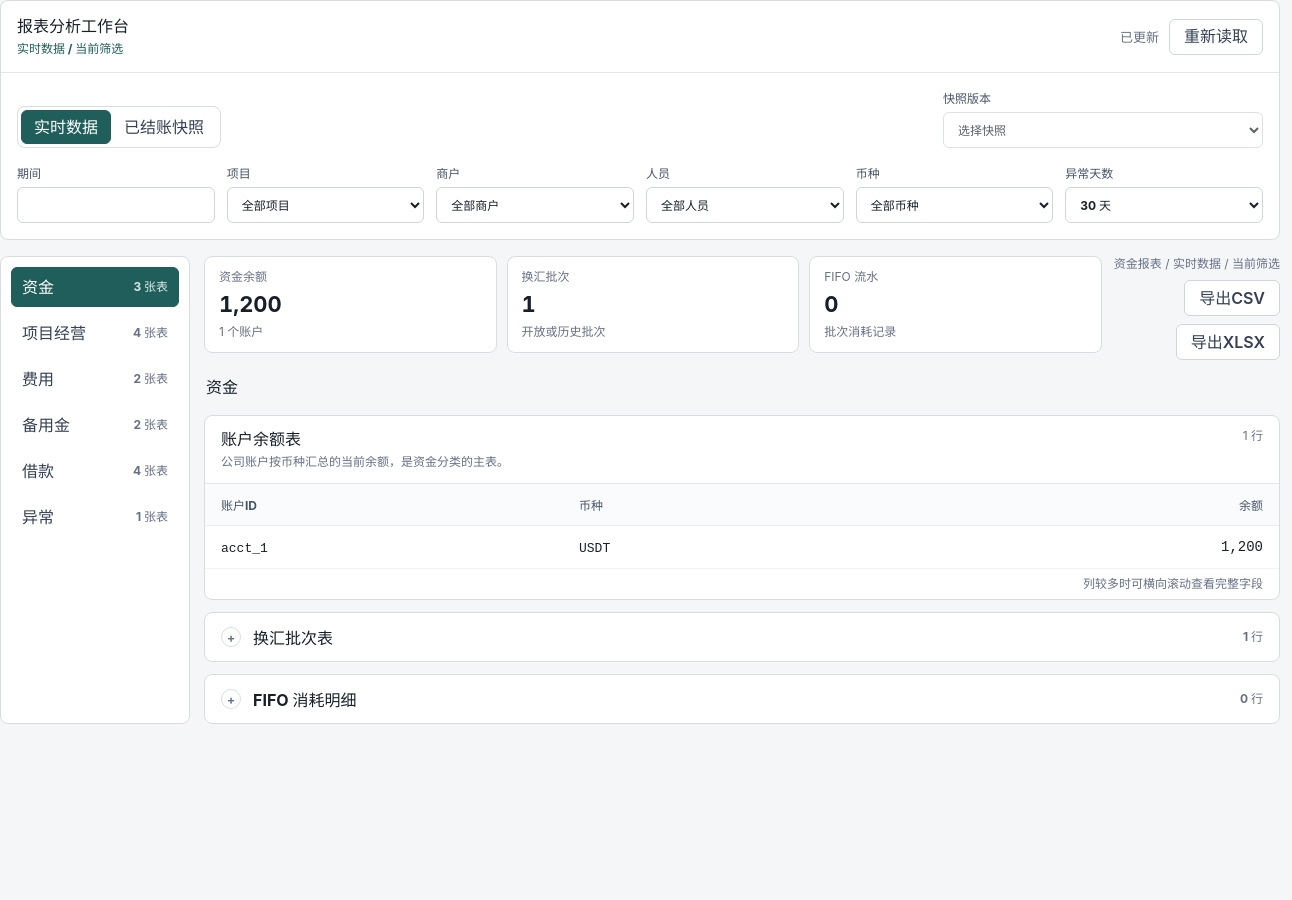
Test: ReportsPage › switches report data from realtime queries to a locked month close snapshot
The width and height of the screenshot is (1292, 900).
expect the message with class "status-slot" reads "已更新": met, box top-left (1120, 28), bottom-right (1159, 44)
Type "2026-04" into the field labelled "期间" at (116, 205), box top-left (17, 187), bottom-right (215, 223)
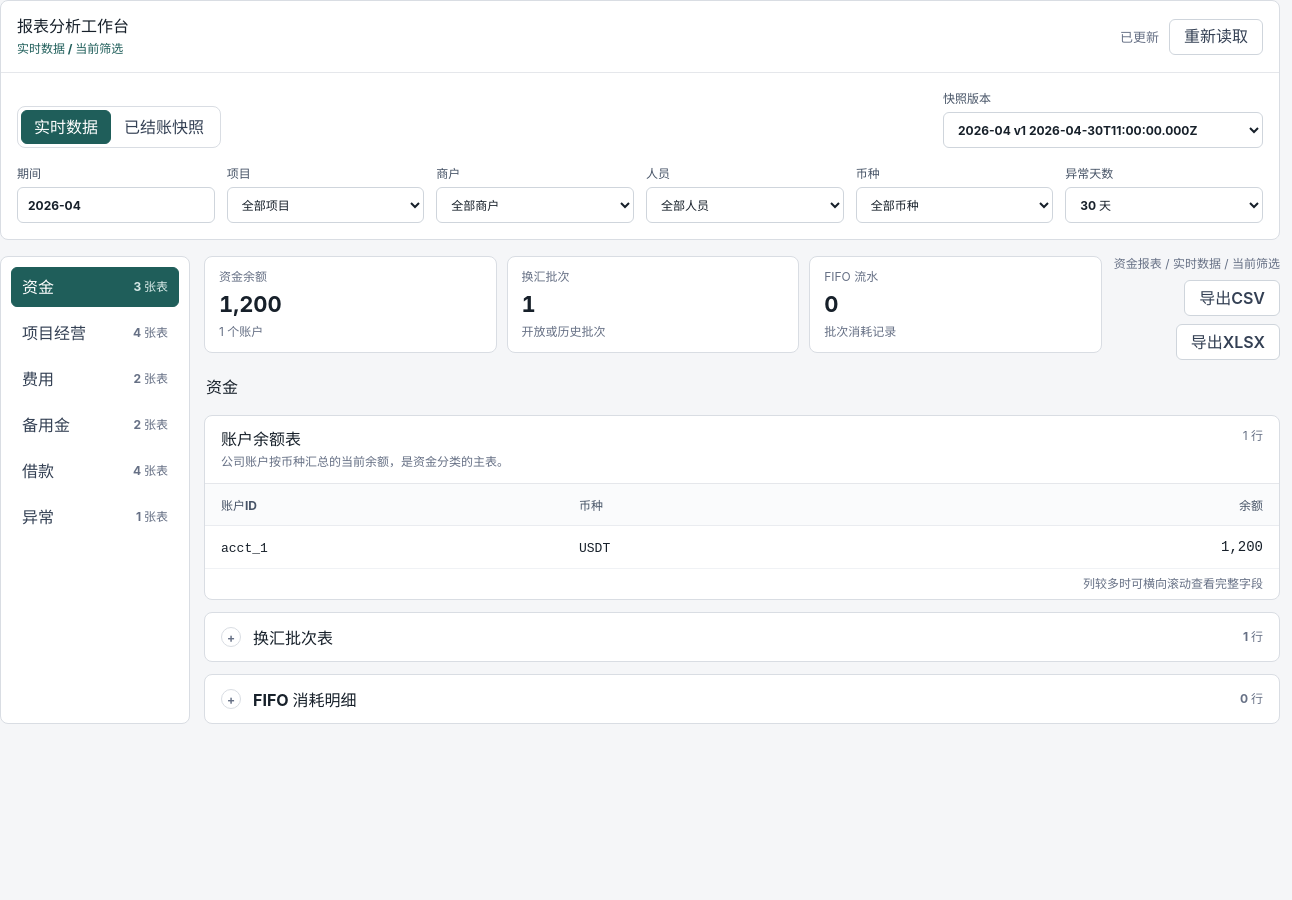
Click the button "已结账快照" at (164, 127), box top-left (111, 110), bottom-right (217, 144)
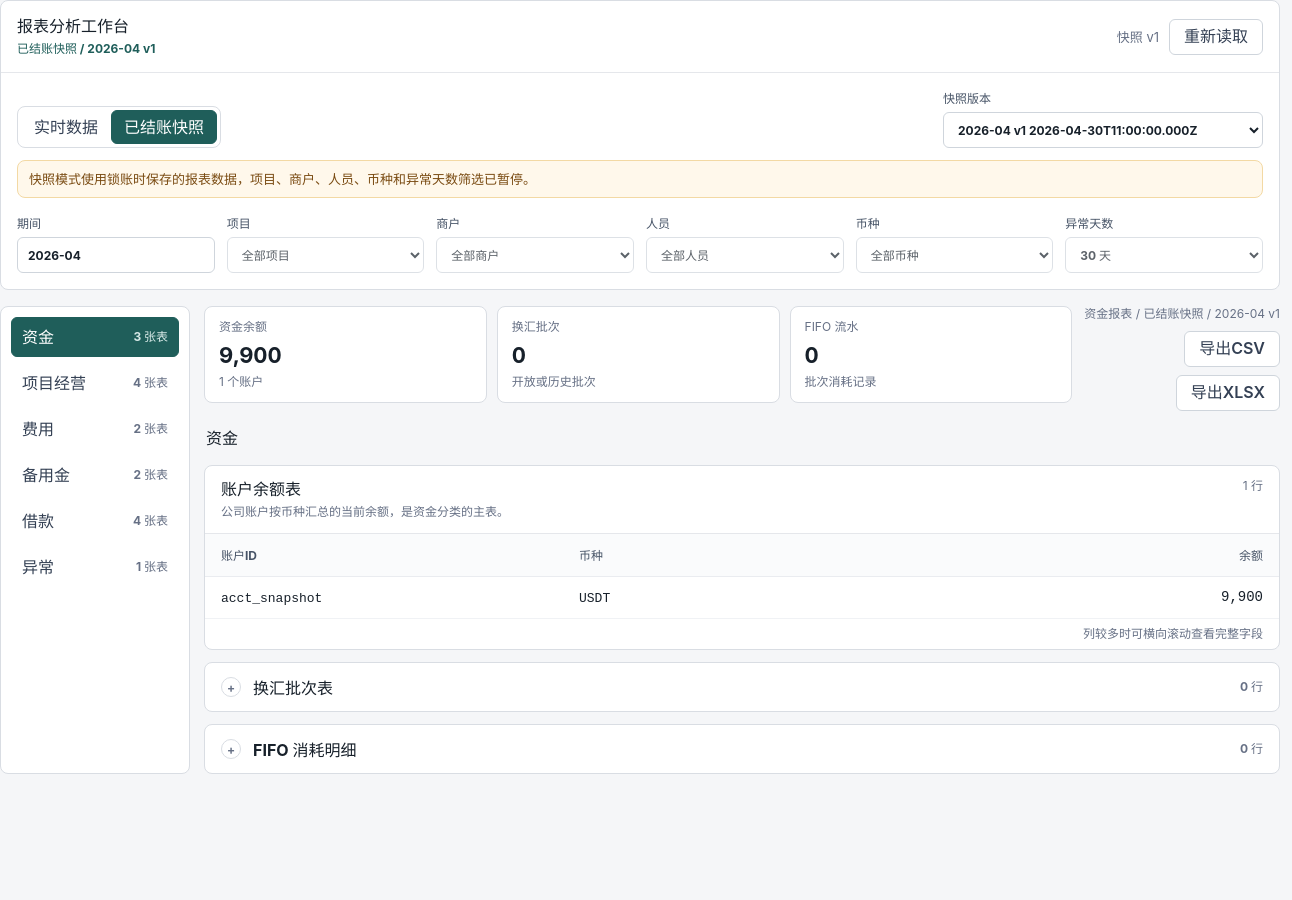
expect the panel with class "report-detail-region" shows "acct_snapshot": met, box top-left (221, 591), bottom-right (322, 606)
expect the message with class "status-slot" reads "快照 v1": met, box top-left (1117, 28), bottom-right (1159, 44)
expect the text with class "report-source-context" reads "已结账快照 / 2026-04 v1": met, box top-left (17, 41), bottom-right (155, 56)
